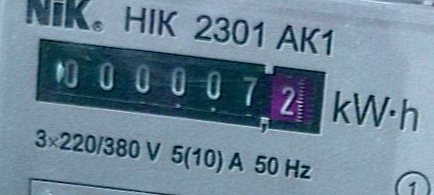0: (129, 57, 156, 98), (200, 64, 226, 103), (58, 53, 84, 91), (166, 62, 191, 101), (95, 56, 119, 93)
2: (275, 81, 300, 119)
7: (236, 70, 261, 110)
screen: (25, 27, 337, 144)
